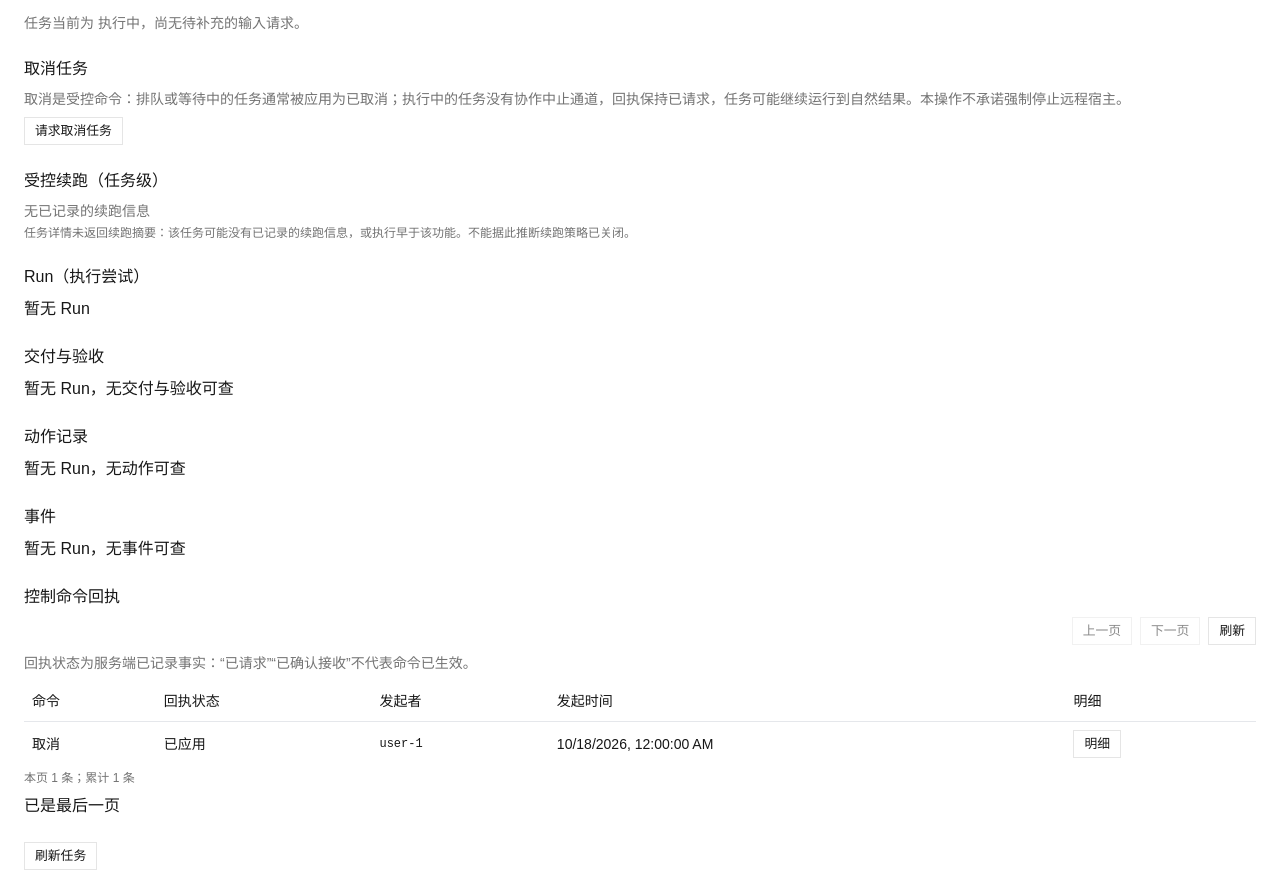
Test case: TaskDetailPage command receipts panel › mounts the Task-scoped panel without any Run
The width and height of the screenshot is (1280, 884).
(page scrolled)
Expected: the element with test id "task-commands-section" is shown, top-left (24, 585), bottom-right (1256, 818)
Expected: the cell with test id "task-command-state" reads "已应用", top-left (164, 736), bottom-right (206, 752)
Click the button with test id "task-command-expand" at {"x": 1097, "y": 744}, box top-left (1074, 730), bottom-right (1121, 758)
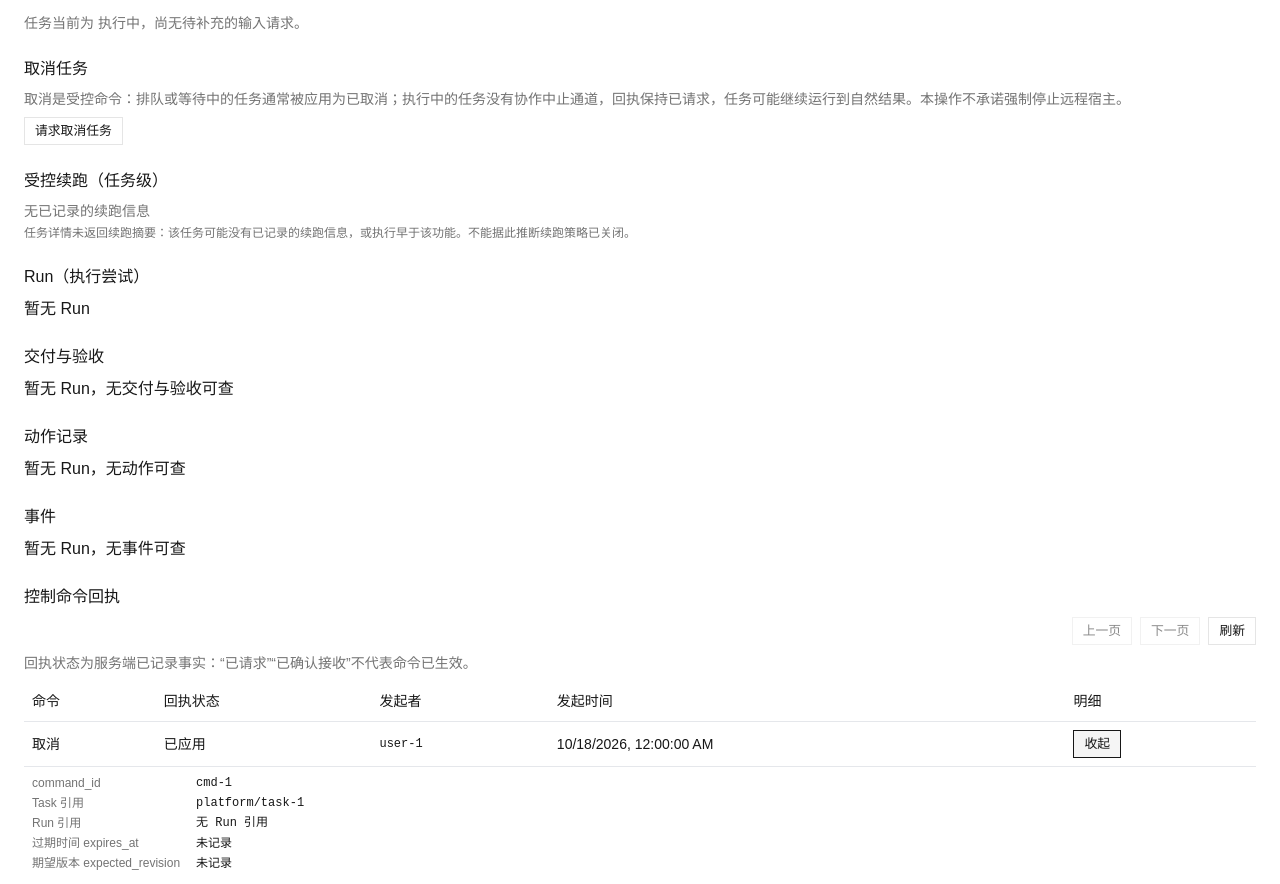
Expected: the text "暂无 Run，无动作可查" is shown, top-left (24, 460), bottom-right (186, 477)
Now the row with test id "task-command-detail" is shown, box top-left (24, 766), bottom-right (1256, 878)
Now the text "无 Run 引用" is shown, box top-left (196, 816), bottom-right (268, 830)
